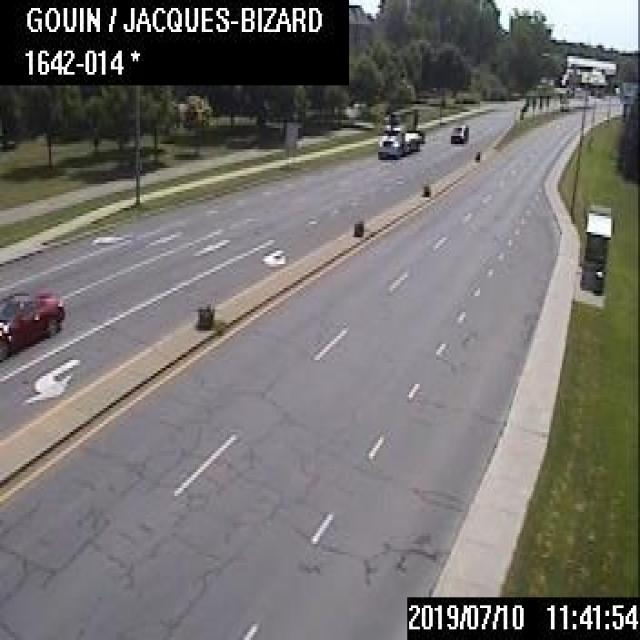vehicle: (0, 291, 64, 357), (377, 120, 422, 156), (449, 122, 467, 143)
